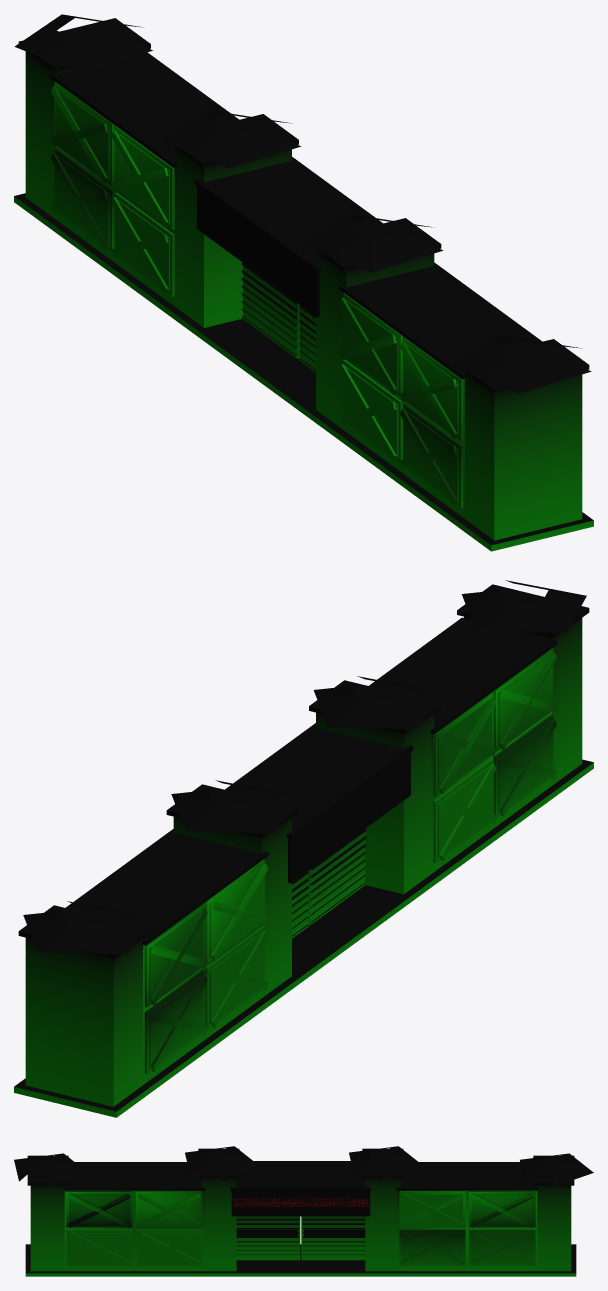
The model's file is l_mediumgate.glb.
3 renders of one model, top to bottom at view 1: azimuth 30°, elevation 25°; view 2: azimuth 150°, elevation 25°; view 3: azimuth 270°, elevation 25°, orthographic. The views are drawn at different scales.
Visible parts, largest first — view 1: lod0, door_l, door_r; view 2: lod0, door_r, door_l; view 3: lod0, door_l, door_r.
Boxes of the visible parts, box(x1,y1,x2,y2) form: lod0: box(14, 14, 593, 551); door_l: box(241, 262, 299, 358); door_r: box(299, 304, 315, 372); lod0: box(14, 580, 593, 1117); door_r: box(308, 829, 366, 925); door_l: box(292, 870, 308, 938); lod0: box(14, 1146, 593, 1276); door_l: box(301, 1216, 365, 1260); door_r: box(236, 1216, 300, 1260).
Size of what is drawn, in the model's own units: 8.08 by 12.22 by 59.41.
